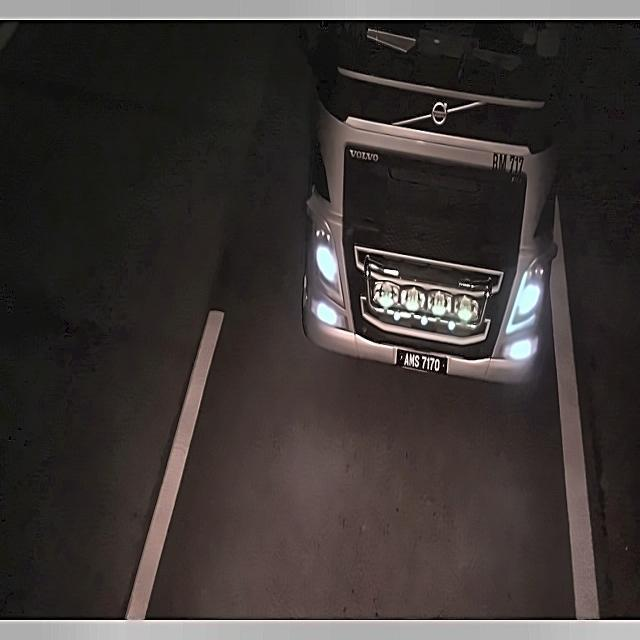car: (395, 348, 448, 380)
